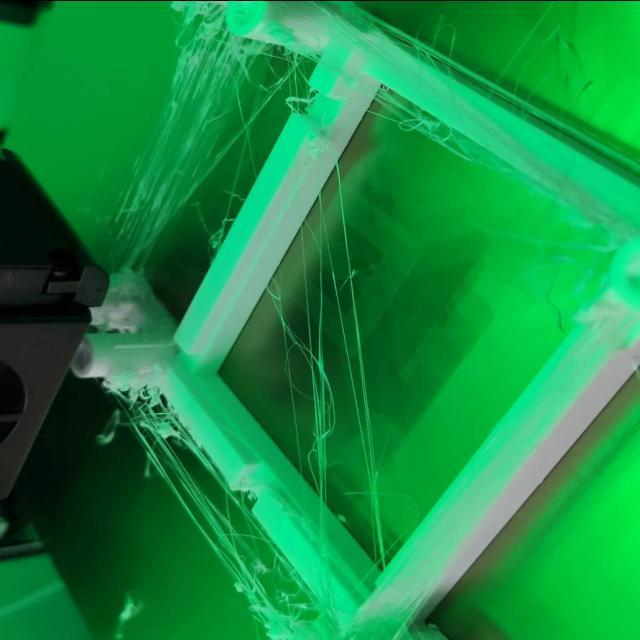Stringing: (100, 374, 309, 635), (89, 2, 281, 261), (322, 185, 391, 545), (296, 181, 343, 626), (355, 80, 492, 166)
